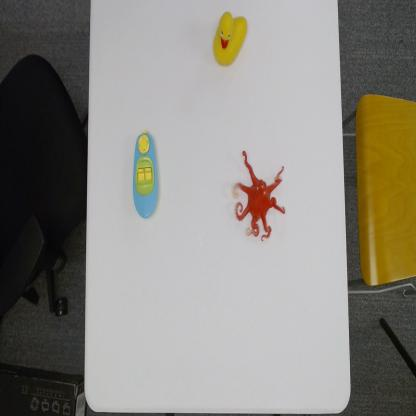Boat: (132, 129, 160, 221)
Duck: (211, 10, 248, 70)
Octopus: (232, 150, 286, 242)
